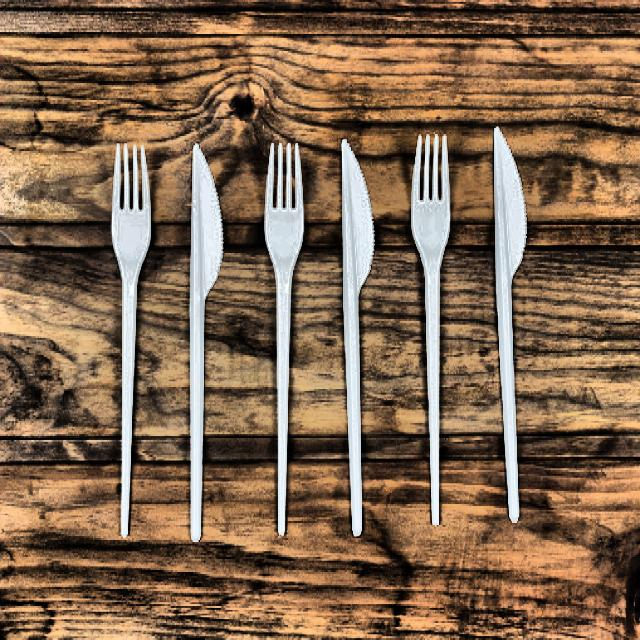plastic utensil: (256, 138, 310, 540), (108, 136, 155, 536), (409, 134, 454, 529)
